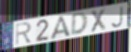2: (35, 18, 50, 43)
A: (50, 14, 73, 41)
D: (70, 12, 89, 36)
J: (109, 5, 124, 29)
R: (15, 22, 33, 47)
X: (90, 7, 107, 34)
